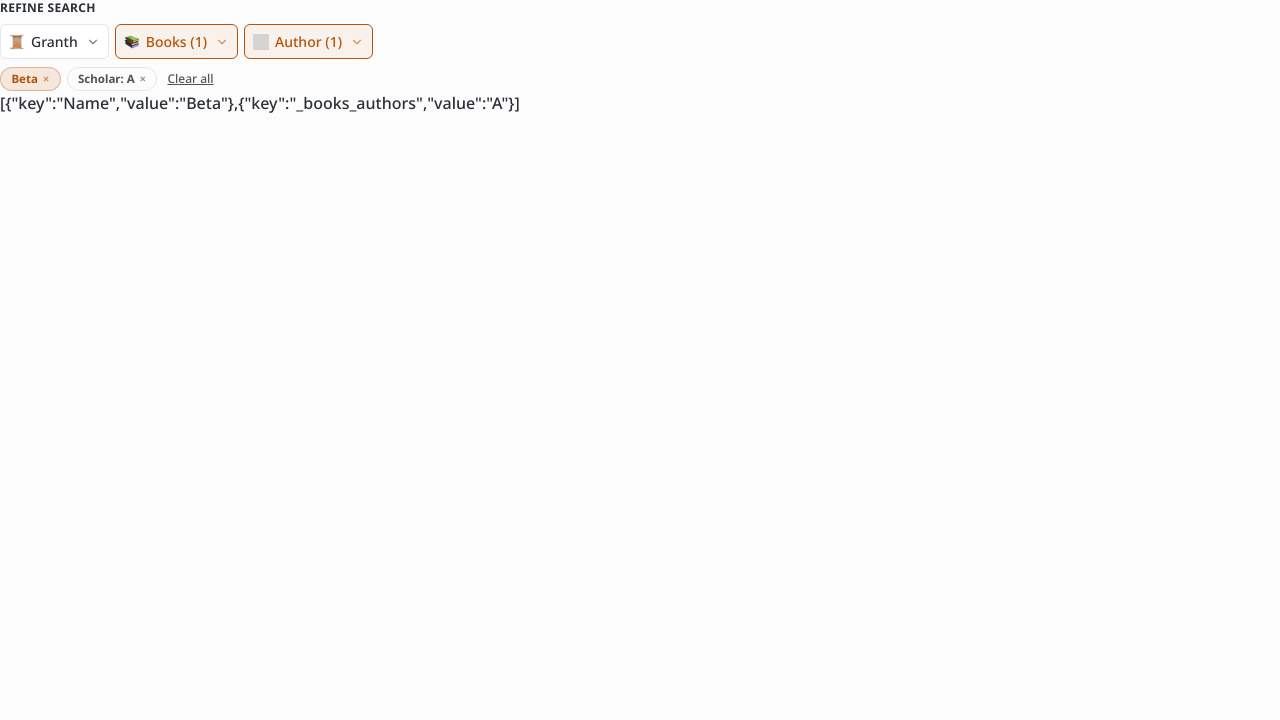
preserves titles when catalogue unavailable (loading=true)
The width and height of the screenshot is (1280, 720).
Click the button "Books (1)" at (176, 42), box [115,24,238,59]
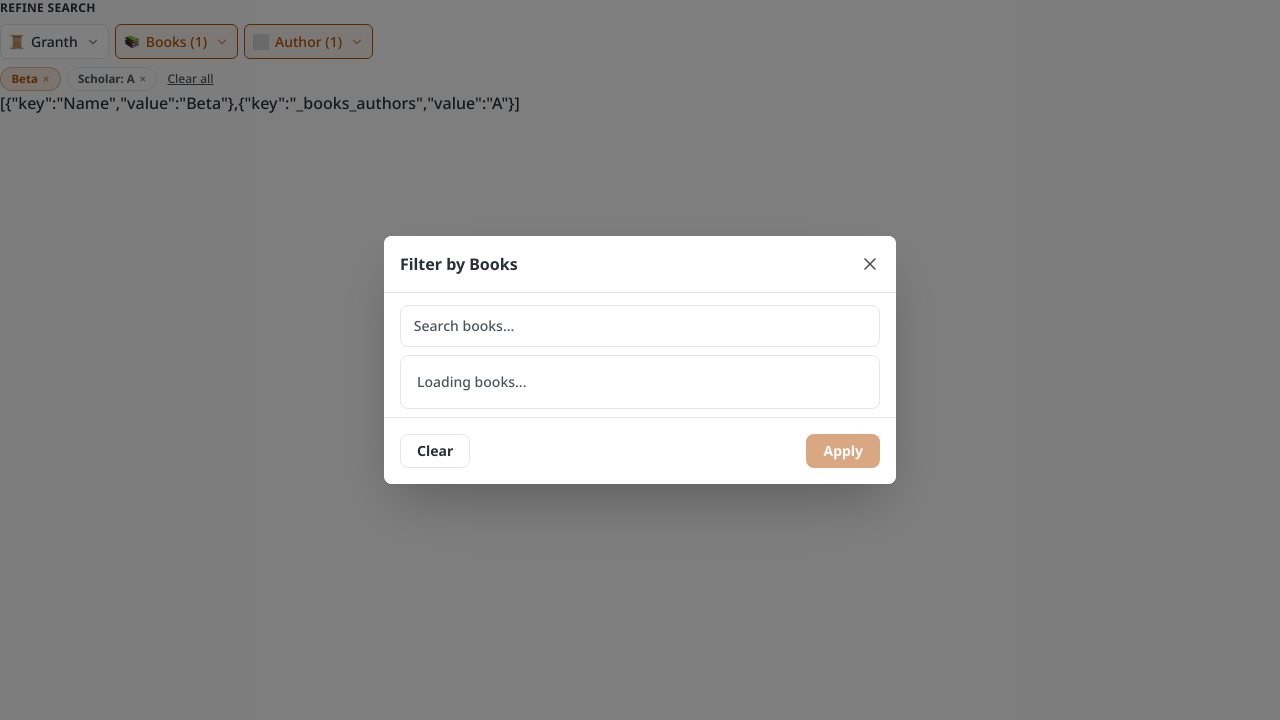
Result: the button "Apply" is disabled at [806,434,880,468]
Press Escape
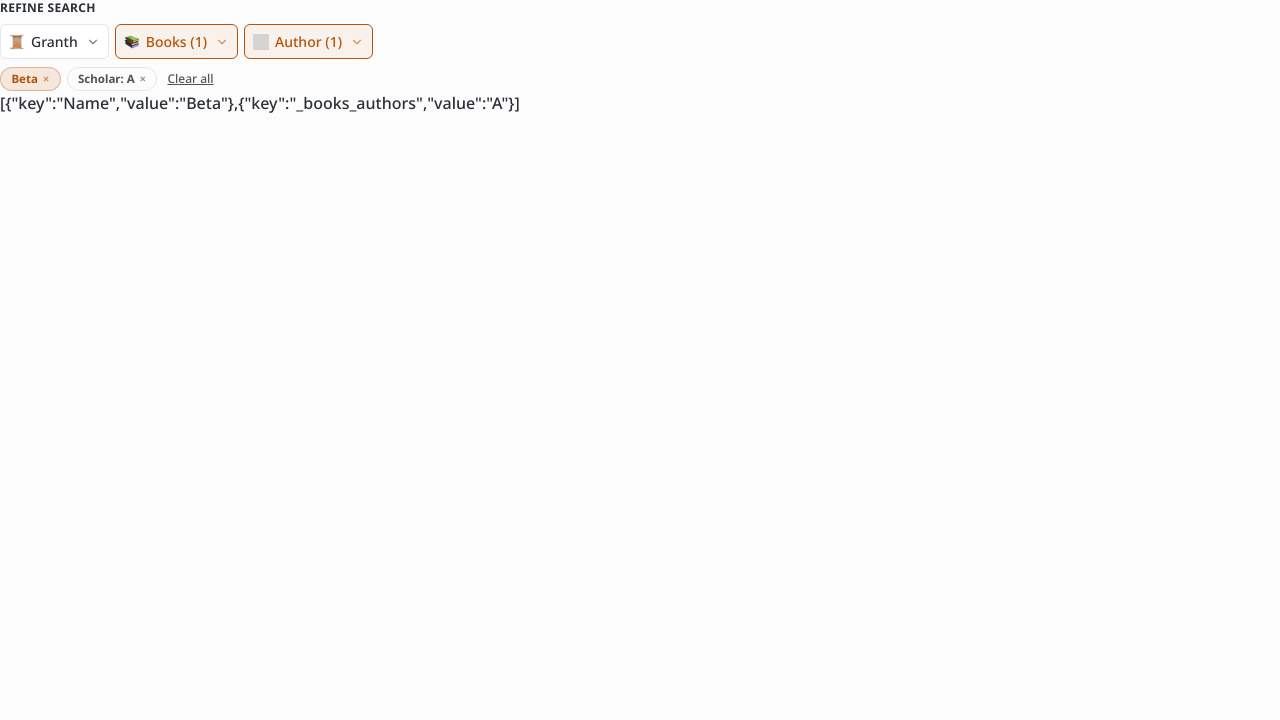
Click the button "Author (1)" at (308, 42), box [244,24,373,59]
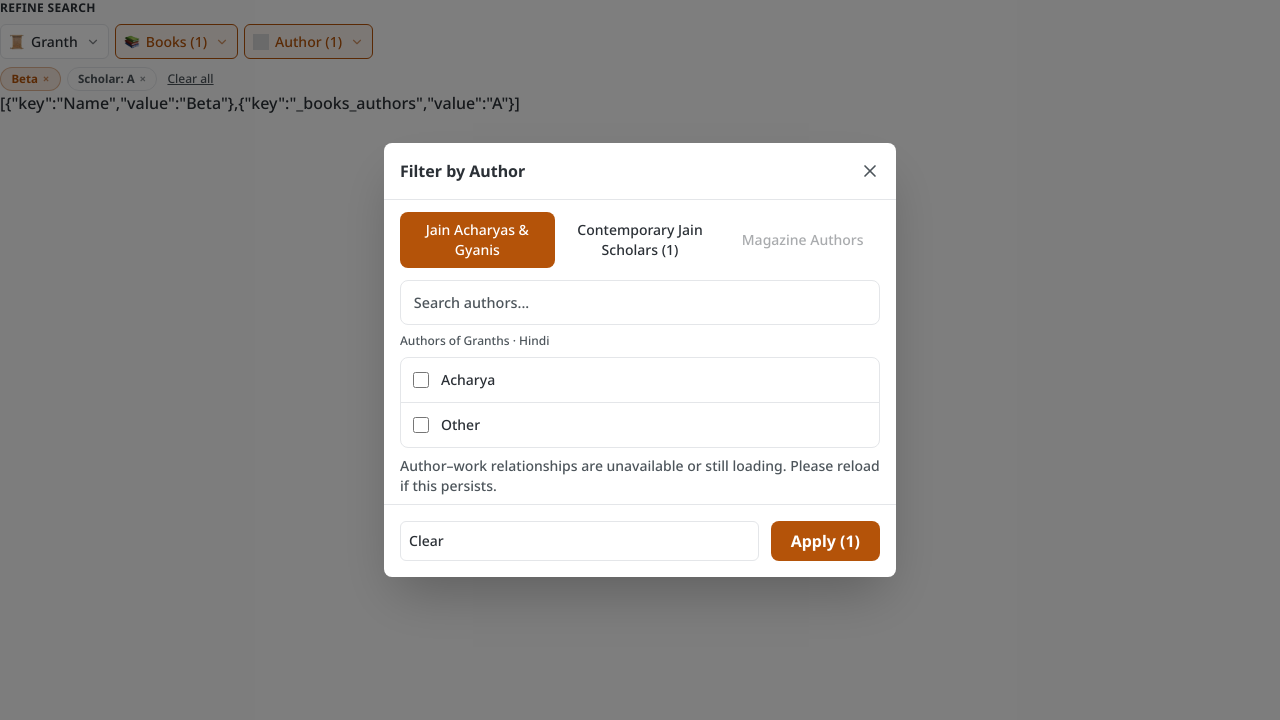
Expected: the text with test id "filters" shows "Beta", [0,92,520,114]
Result: the button "Apply (1)" is disabled at [771,521,880,561]
